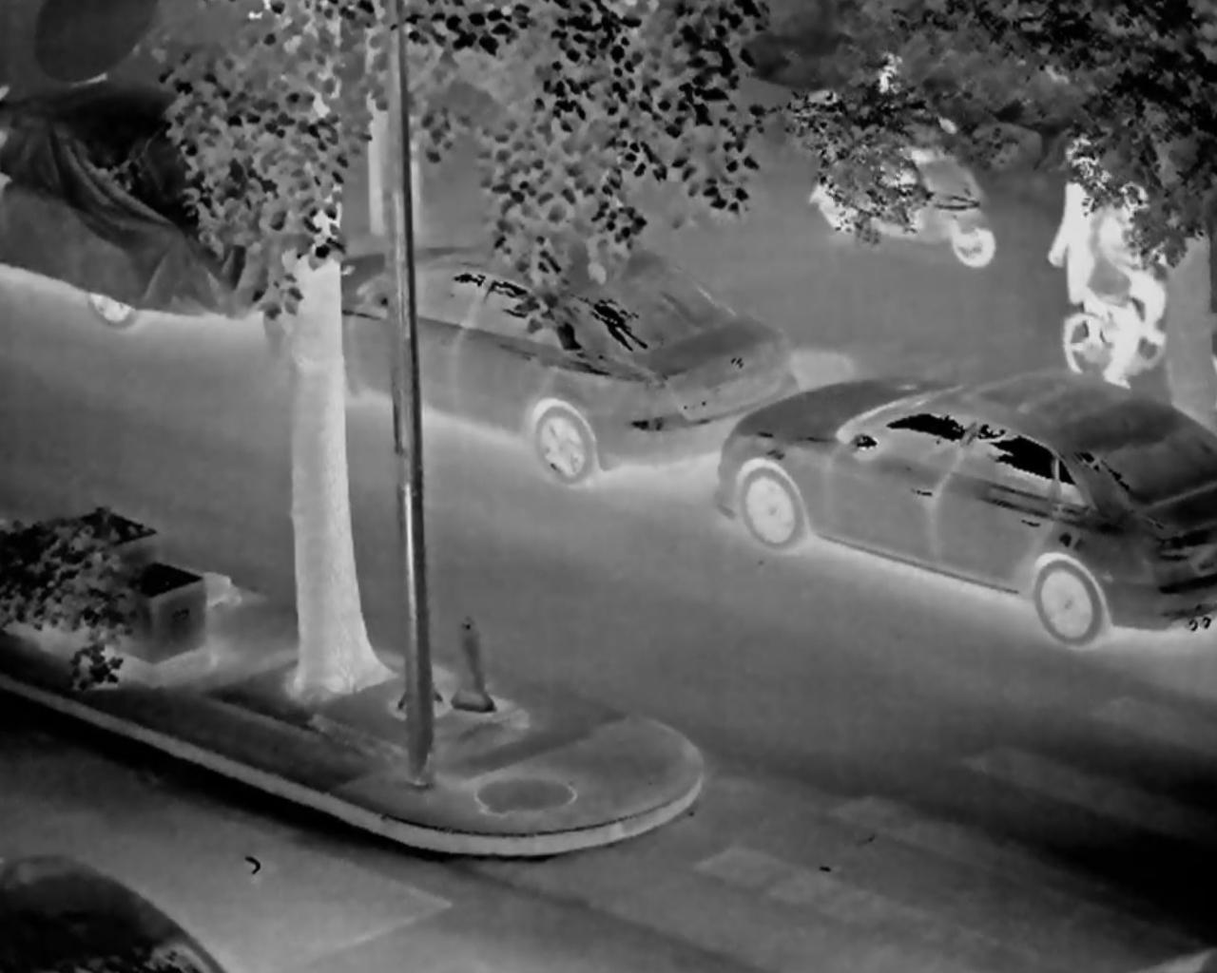person: (1091, 179, 1173, 388), (1055, 138, 1118, 318)
